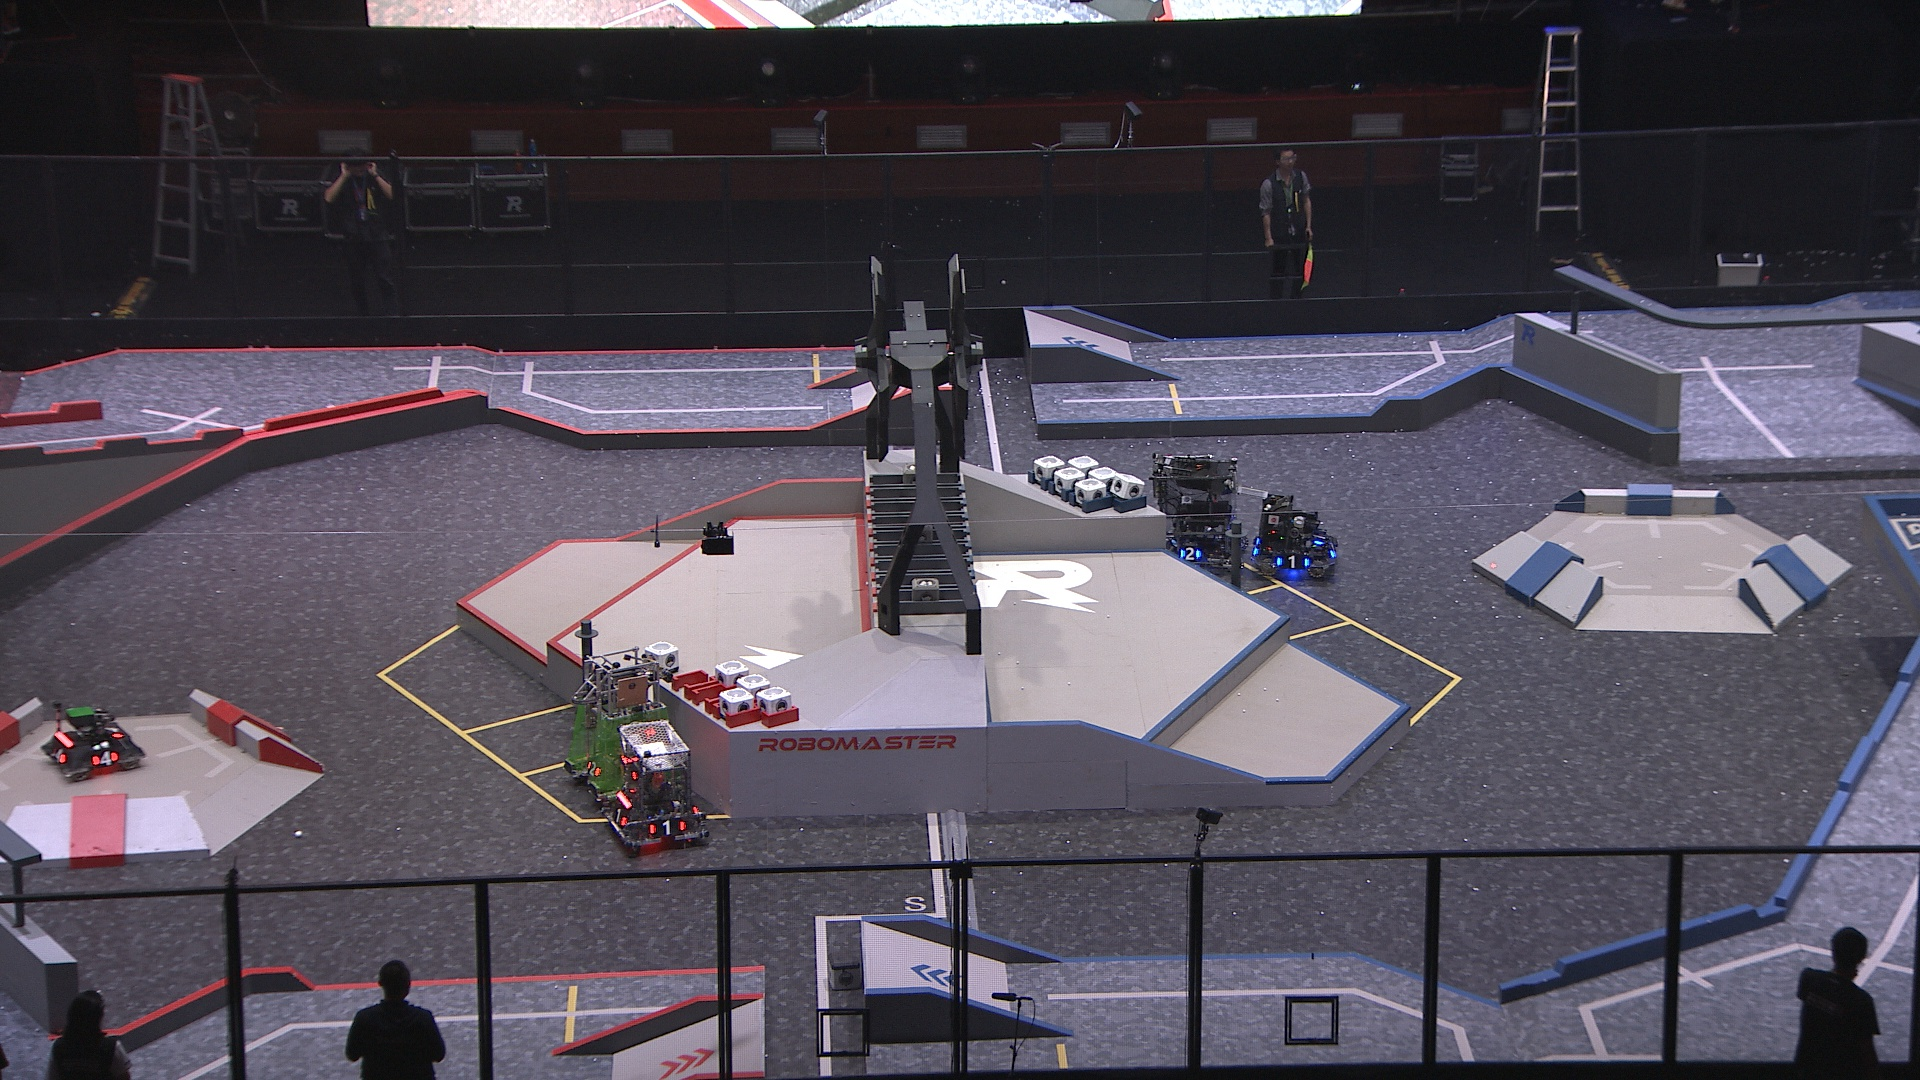armor: (645, 820, 688, 837), (90, 749, 117, 767), (1275, 556, 1311, 570), (1178, 546, 1203, 564), (100, 723, 123, 742), (584, 760, 604, 781), (53, 746, 74, 765), (612, 807, 629, 828), (1328, 541, 1340, 560), (1311, 533, 1329, 545)
car: (564, 647, 680, 803), (605, 719, 711, 858), (1145, 454, 1247, 575), (38, 695, 145, 779), (1251, 495, 1346, 583)
